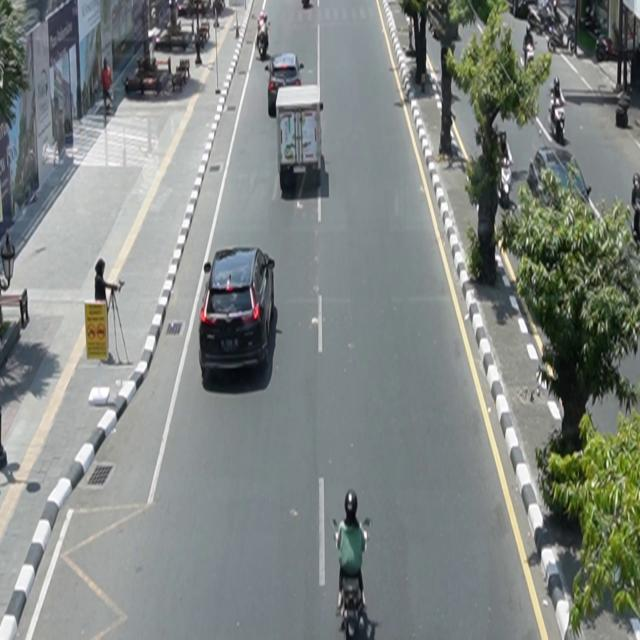bus: (276, 85, 324, 191)
car: (199, 246, 276, 379), (265, 53, 305, 118)
